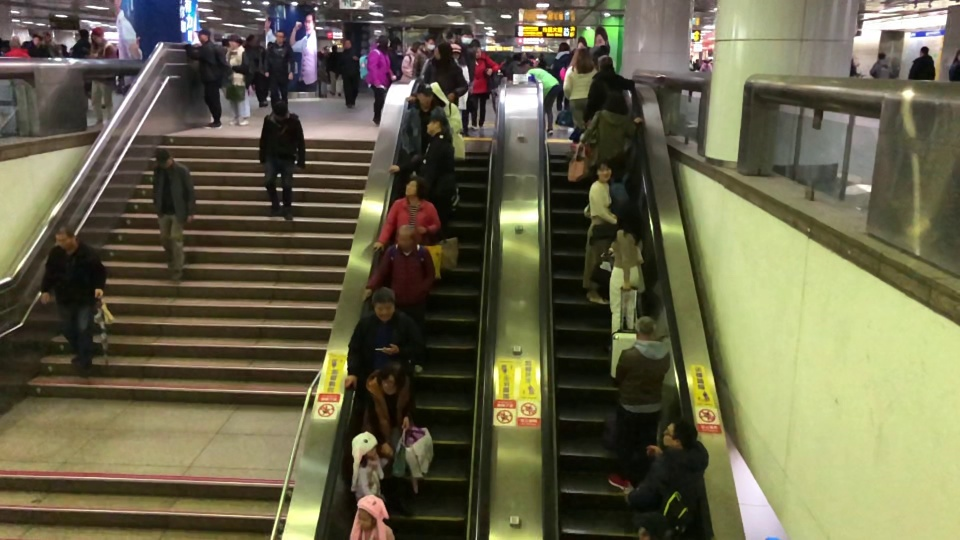person_head: (263, 30, 296, 113), (661, 418, 699, 452), (374, 359, 408, 396), (354, 492, 381, 532), (369, 284, 396, 323), (393, 224, 419, 256), (352, 431, 378, 460), (633, 312, 657, 342), (570, 45, 596, 72), (602, 90, 629, 116), (617, 201, 639, 232), (423, 113, 450, 136), (414, 82, 434, 111), (593, 154, 613, 181), (54, 226, 76, 250), (402, 176, 426, 198), (154, 146, 176, 168), (271, 101, 290, 124), (596, 54, 615, 76), (433, 43, 453, 63), (90, 26, 106, 43), (196, 26, 211, 44), (376, 36, 392, 52), (459, 29, 474, 46), (423, 33, 436, 52), (273, 28, 288, 44), (410, 38, 423, 56), (229, 33, 242, 50), (471, 39, 482, 59), (75, 28, 89, 42), (556, 40, 571, 53), (9, 35, 21, 49), (342, 37, 352, 50), (919, 45, 929, 57), (877, 50, 887, 61)
person_vbox: (362, 223, 437, 373), (608, 316, 672, 490), (623, 420, 709, 540), (41, 223, 108, 367), (361, 358, 420, 515), (386, 114, 453, 246), (344, 285, 423, 393), (151, 147, 197, 284), (257, 101, 308, 222), (582, 92, 643, 187), (606, 203, 643, 351), (181, 28, 233, 129), (371, 177, 441, 250), (428, 80, 466, 209), (583, 160, 617, 303), (407, 42, 469, 107), (401, 82, 450, 161), (583, 53, 635, 125), (358, 34, 397, 127), (561, 47, 598, 145), (85, 27, 119, 126), (220, 34, 253, 125), (347, 430, 388, 503), (467, 38, 499, 130), (454, 27, 476, 134), (527, 67, 559, 134), (351, 492, 395, 540), (337, 36, 362, 111), (550, 42, 574, 116), (411, 34, 437, 78), (398, 38, 426, 78), (907, 46, 936, 79), (869, 50, 894, 78), (70, 27, 93, 57), (5, 35, 30, 58)
